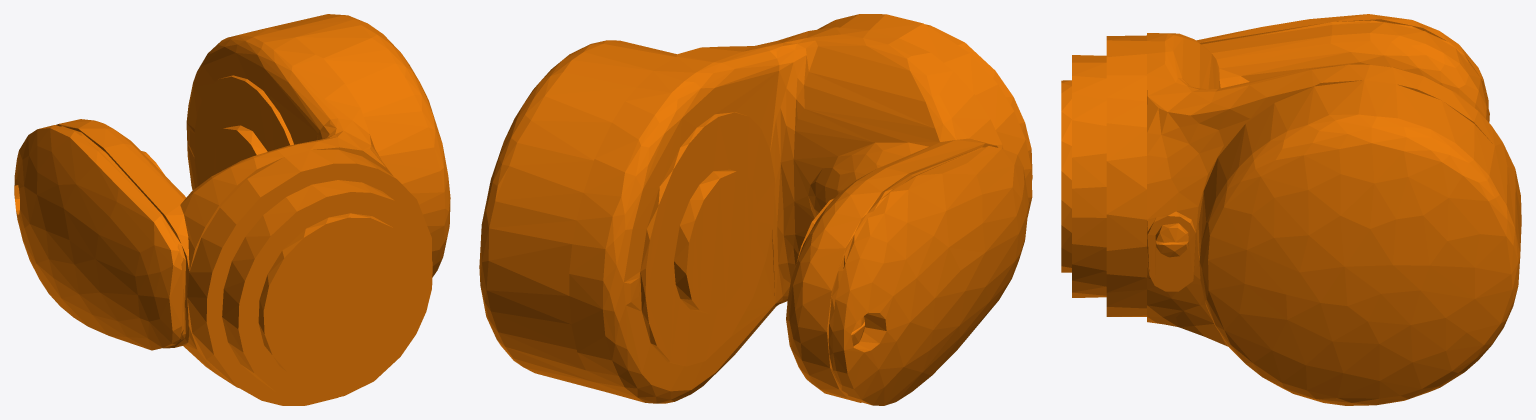
File: KR210_3100_ultra_A5.dae
The picture shows the model from 3 angles, left to right: view 1: azimuth 30°, elevation 25°; view 2: azimuth 150°, elevation 25°; view 3: azimuth 270°, elevation 25°; orthographic projection. The views are drawn at different scales.
Visible parts, largest first — view 1: KR 210 3100 ultra A5; view 2: KR 210 3100 ultra A5; view 3: KR 210 3100 ultra A5.
Part boxes in pixels (x1,y1,x2,y2): KR 210 3100 ultra A5: [14, 14, 450, 405]; KR 210 3100 ultra A5: [479, 14, 1032, 405]; KR 210 3100 ultra A5: [1061, 14, 1521, 405].
Size of the model in its own units: 0.3249 by 0.3409 by 0.2396.
